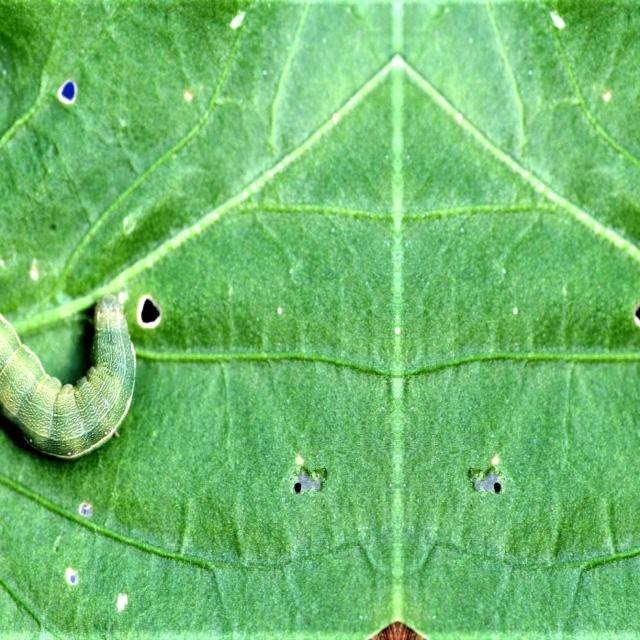Armyworm: (1, 270, 137, 480)
Armyworm_damage: (284, 452, 339, 522), (463, 436, 508, 515), (52, 71, 89, 125), (133, 285, 168, 340)
